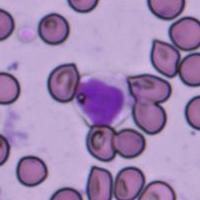M: (70, 72, 132, 127)
